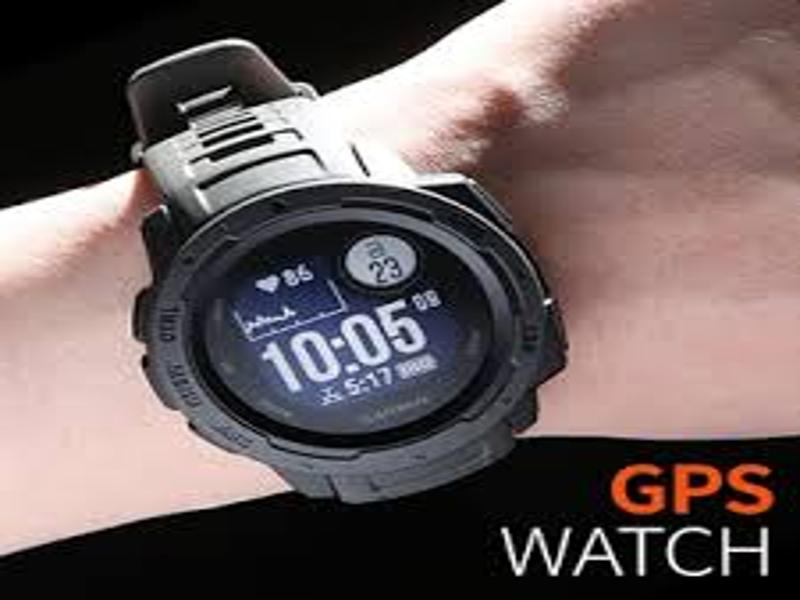watch: (105, 39, 572, 504)
